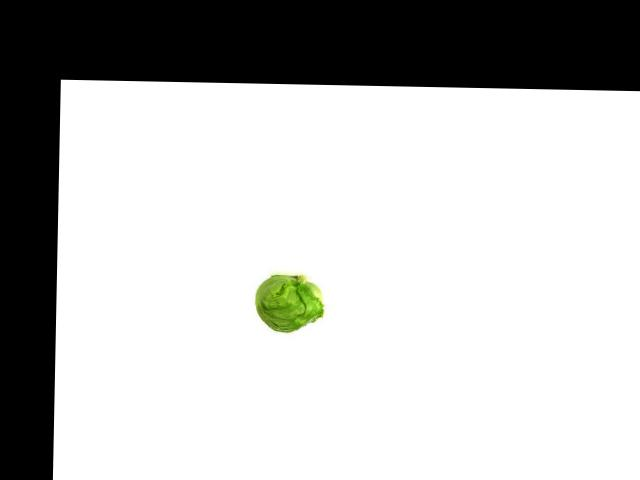lettuce: (248, 274, 332, 339)
